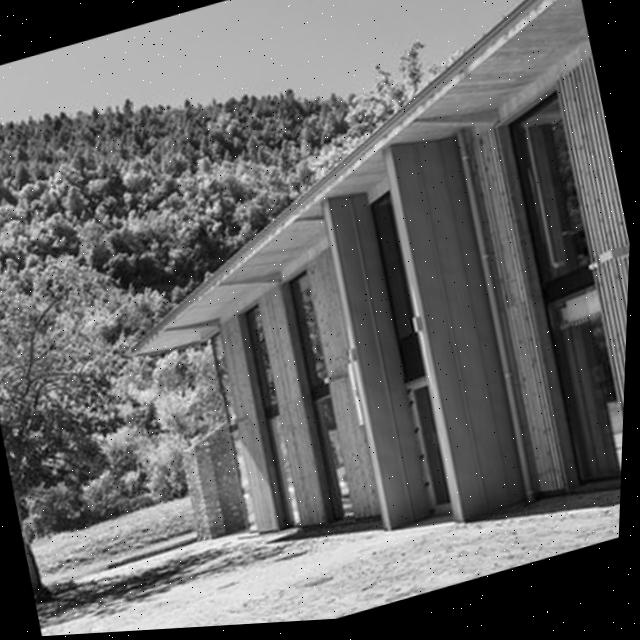building: (69, 0, 640, 627)
